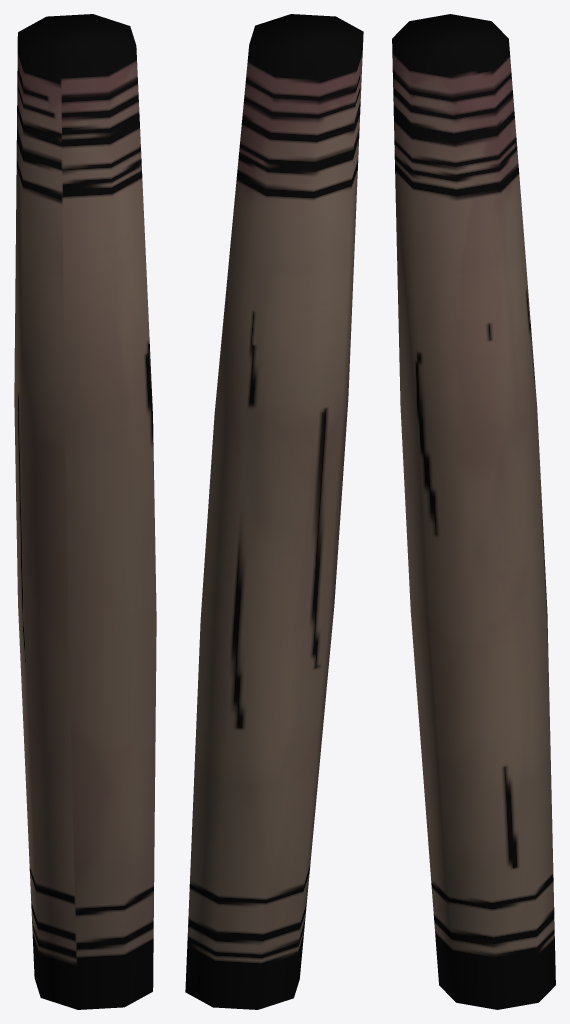
File: armchair_gib7.fbx
3 renders of one model, left to right at view 1: azimuth 30°, elevation 25°; view 2: azimuth 150°, elevation 25°; view 3: azimuth 270°, elevation 25°, orthographic. The views are drawn at different scales.
Parts seen in each view (by area): view 1: armchair_gib7; view 2: armchair_gib7; view 3: armchair_gib7.
Part boxes in pixels (left/top/right/bottom): armchair_gib7: left=14, top=14, right=156, bottom=1009; armchair_gib7: left=185, top=14, right=363, bottom=1009; armchair_gib7: left=392, top=14, right=555, bottom=1009.
Size of the model in its own units: 24.37 by 154 by 24.6.
